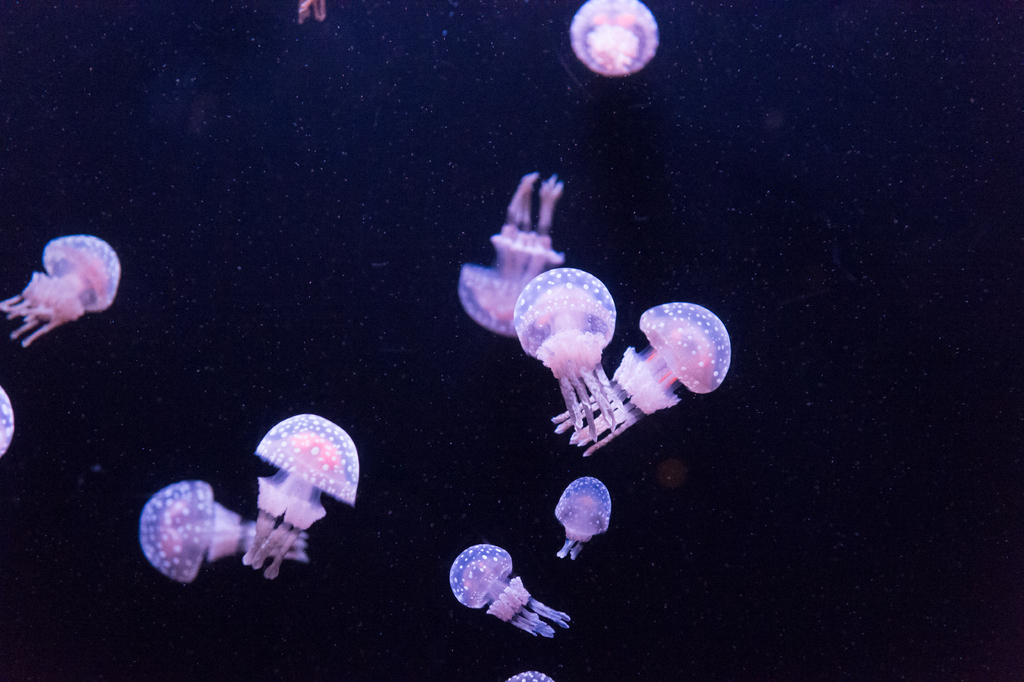Jellyfish: (552, 303, 728, 457), (242, 414, 360, 582), (513, 261, 620, 439), (138, 479, 309, 586), (452, 177, 565, 335), (3, 232, 121, 344), (443, 539, 571, 640), (567, 0, 663, 78), (554, 474, 611, 560)
